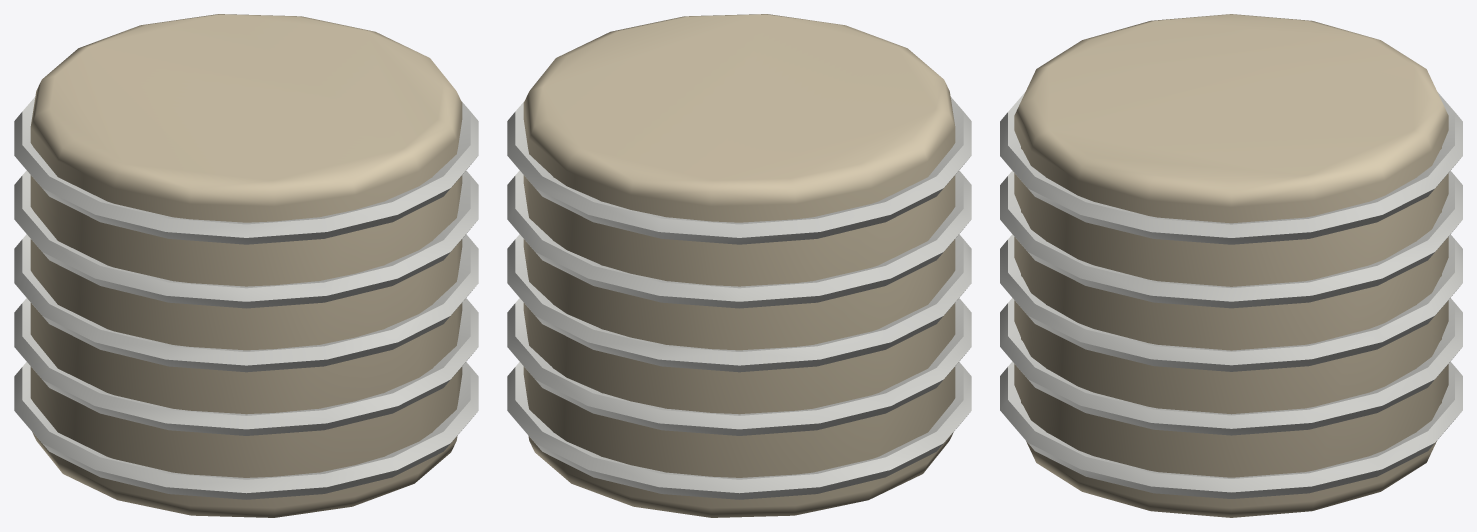
The model's file is SM_Station_LighthouseLamp.fbx.
3 renders of one model, left to right at view 1: azimuth 30°, elevation 25°; view 2: azimuth 150°, elevation 25°; view 3: azimuth 270°, elevation 25°, orthographic.
Parts seen in each view (by area): view 1: SM_Station_LighthouseLamp; view 2: SM_Station_LighthouseLamp; view 3: SM_Station_LighthouseLamp.
Part boxes in pixels (x1=…): SM_Station_LighthouseLamp: x1=14, y1=14, x2=478, y2=517; SM_Station_LighthouseLamp: x1=507, y1=14, x2=971, y2=517; SM_Station_LighthouseLamp: x1=1000, y1=14, x2=1462, y2=517.
Bounding box in the file's own units: 73.67 × 58.04 × 72.55.
